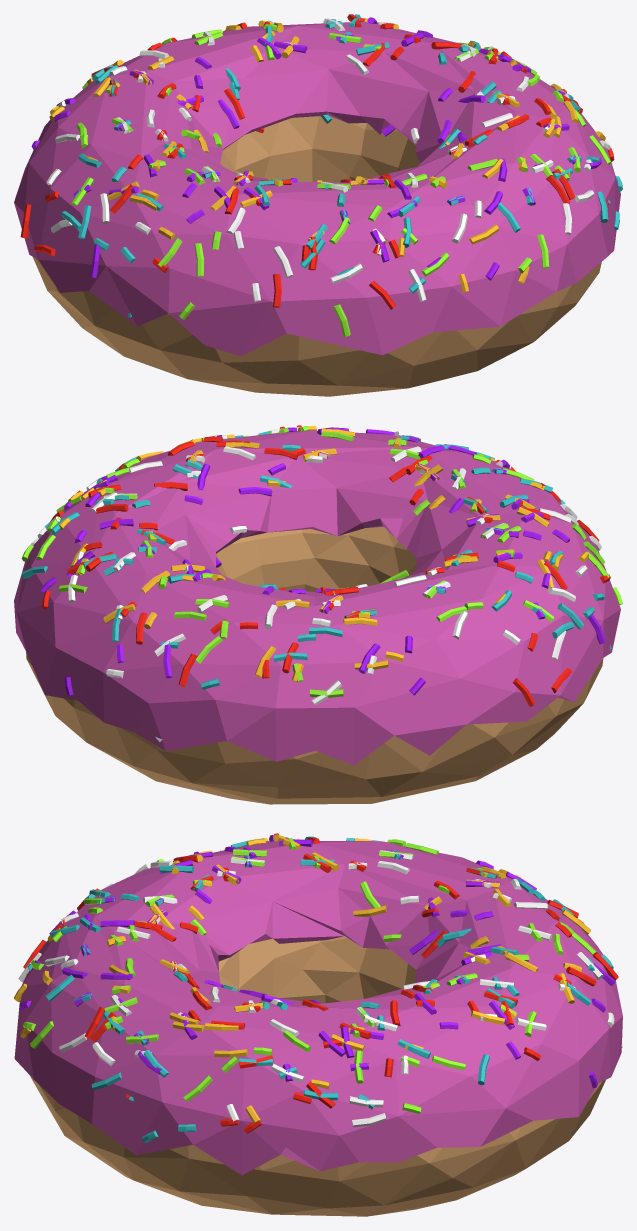
The model's file is low-poly-donut.obj.
The picture shows the model from 3 angles, top to bottom: view 1: azimuth 30°, elevation 25°; view 2: azimuth 150°, elevation 25°; view 3: azimuth 270°, elevation 25°; orthographic projection.
Parts seen in each view (by area): view 1: icing.001_Torus.002, donut.001_Torus.003; view 2: icing.001_Torus.002, donut.001_Torus.003; view 3: icing.001_Torus.002, donut.001_Torus.003.
Boxes of the visible parts, x1,y1,x2,y2 form: icing.001_Torus.002: (14,21,620,356); donut.001_Torus.003: (33,116,601,396); icing.001_Torus.002: (14,430,620,765); donut.001_Torus.003: (26,526,603,804); icing.001_Torus.002: (14,841,622,1175); donut.001_Torus.003: (30,936,605,1216).
Size of the model in its own units: 2.57 by 0.9372 by 2.57.
